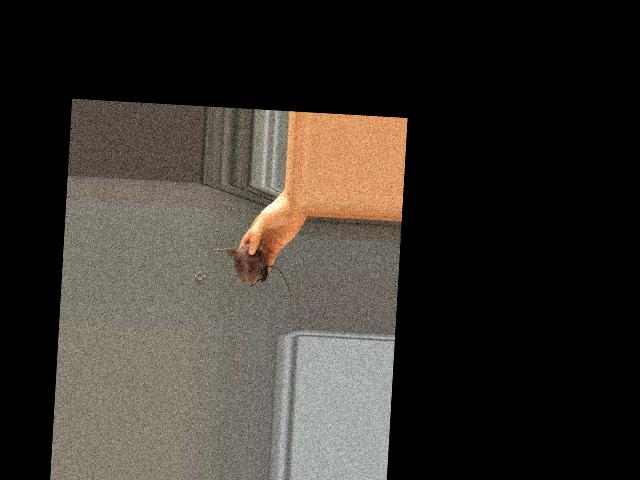beet: (200, 241, 294, 302)
